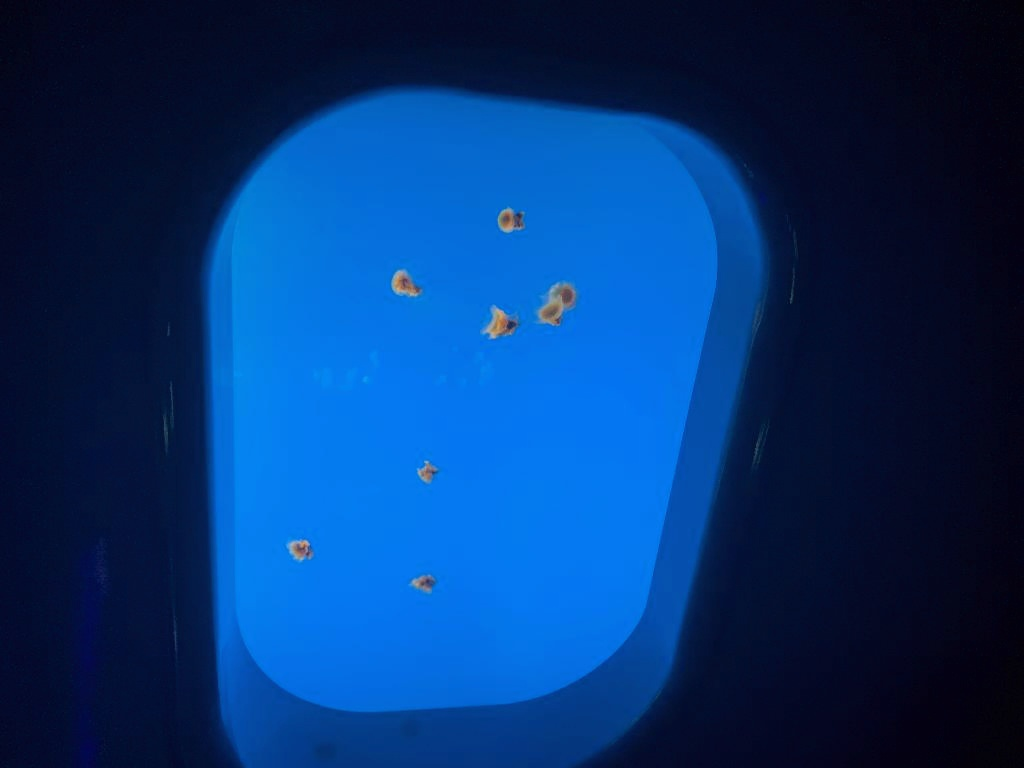jellyfish: (480, 302, 522, 340), (546, 279, 580, 311), (534, 292, 564, 326), (390, 268, 424, 296), (494, 206, 526, 234), (286, 536, 314, 562), (416, 458, 440, 484), (408, 571, 436, 593)
